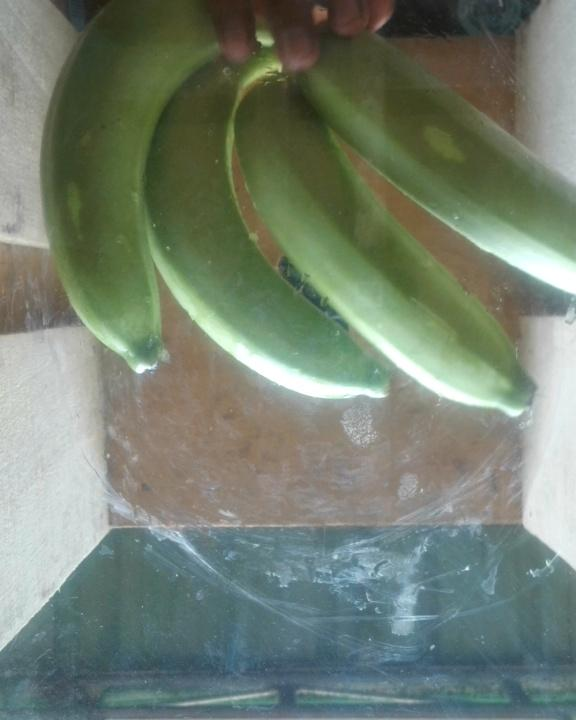SPOT: (32, 1, 574, 442)
